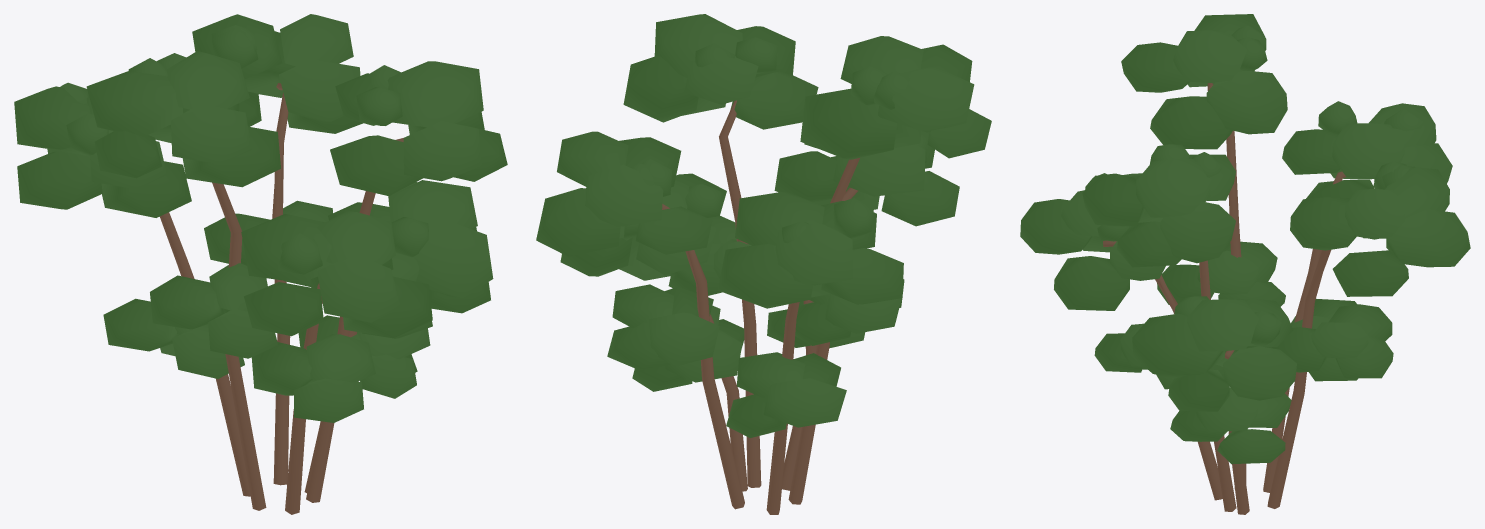
File: Blender_PacificRhododendron_1.glb
The picture shows the model from 3 angles, left to right: view 1: azimuth 30°, elevation 25°; view 2: azimuth 150°, elevation 25°; view 3: azimuth 270°, elevation 25°; orthographic projection. The views are drawn at different scales.
Parts seen in each view (by area): view 1: Blender_PacificRhododendron_1; view 2: Blender_PacificRhododendron_1; view 3: Blender_PacificRhododendron_1.
Part boxes in pixels (x1=…): Blender_PacificRhododendron_1: x1=14, y1=14, x2=507, y2=514; Blender_PacificRhododendron_1: x1=536, y1=14, x2=991, y2=514; Blender_PacificRhododendron_1: x1=1020, y1=14, x2=1470, y2=514.
Size of the model in its own units: 3.47 by 4.01 by 3.81.
